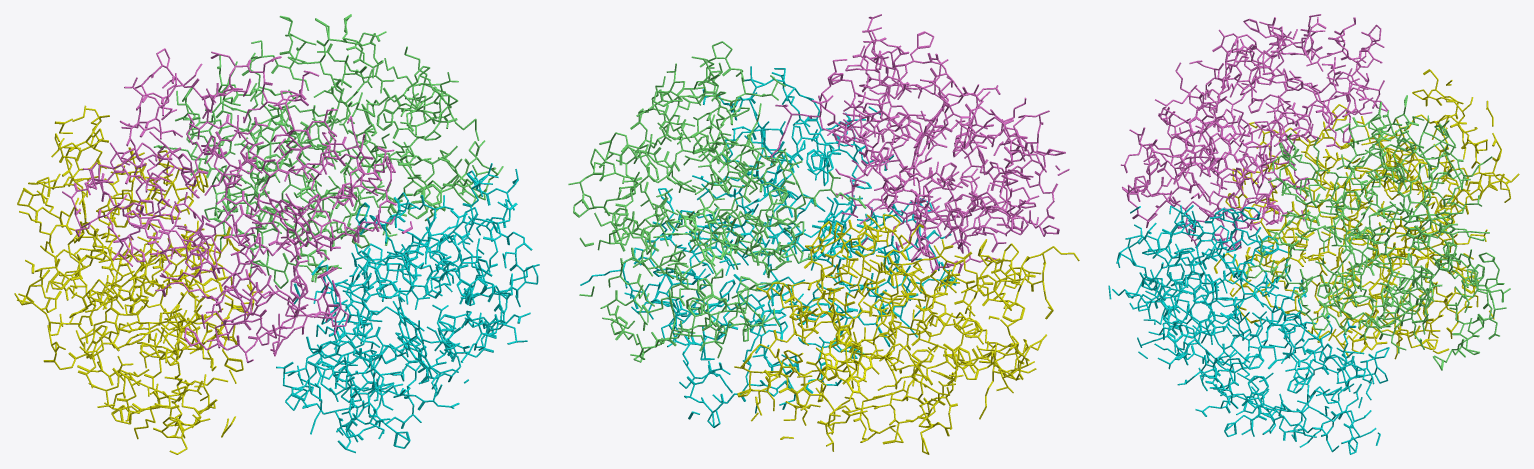
File: 4hhb__lines__chain.glb
3 renders of one model, left to right at view 1: azimuth 30°, elevation 25°; view 2: azimuth 150°, elevation 25°; view 3: azimuth 270°, elevation 25°, orthographic. The views are drawn at different scales.
Parts seen in each view (by area): view 1: Renderer Node; view 2: Renderer Node; view 3: Renderer Node.
Boxes of the visible parts, box(x1,y1,x2,y2) form: Renderer Node: box(14, 14, 539, 454); Renderer Node: box(568, 14, 1079, 454); Renderer Node: box(1108, 14, 1519, 454).
Size of the model in its own units: 65.55 by 57.14 by 57.46.
